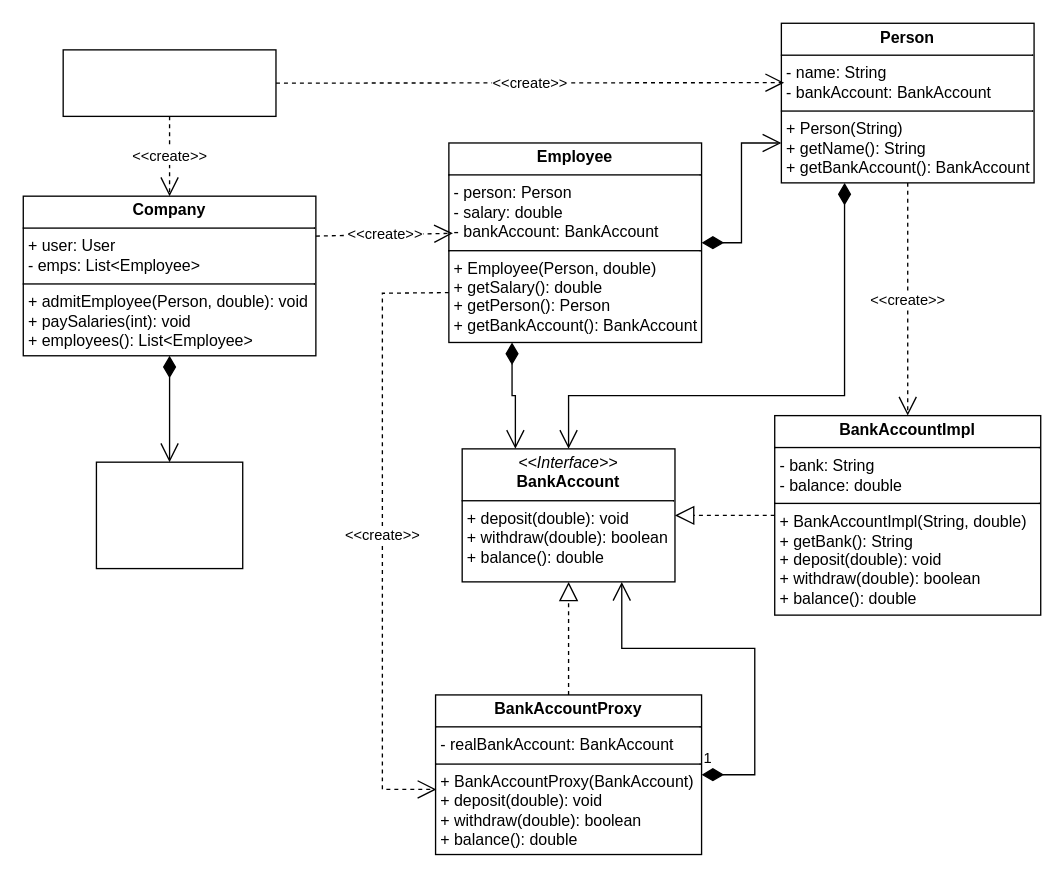
Image size: 1064x878. Some labels were removed from this diagram. Here are the shapes that lost their labels. From the top down, the centre of each, then its label:
At (169,82): "SharkCompany2 + main(String[]): void".
At (169,515): "<<enumeration>> User OWNER COMPANY".
